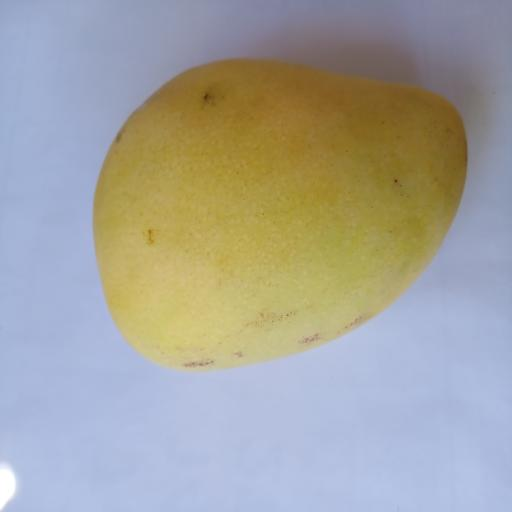mango-ripe: (71, 34, 482, 400)
